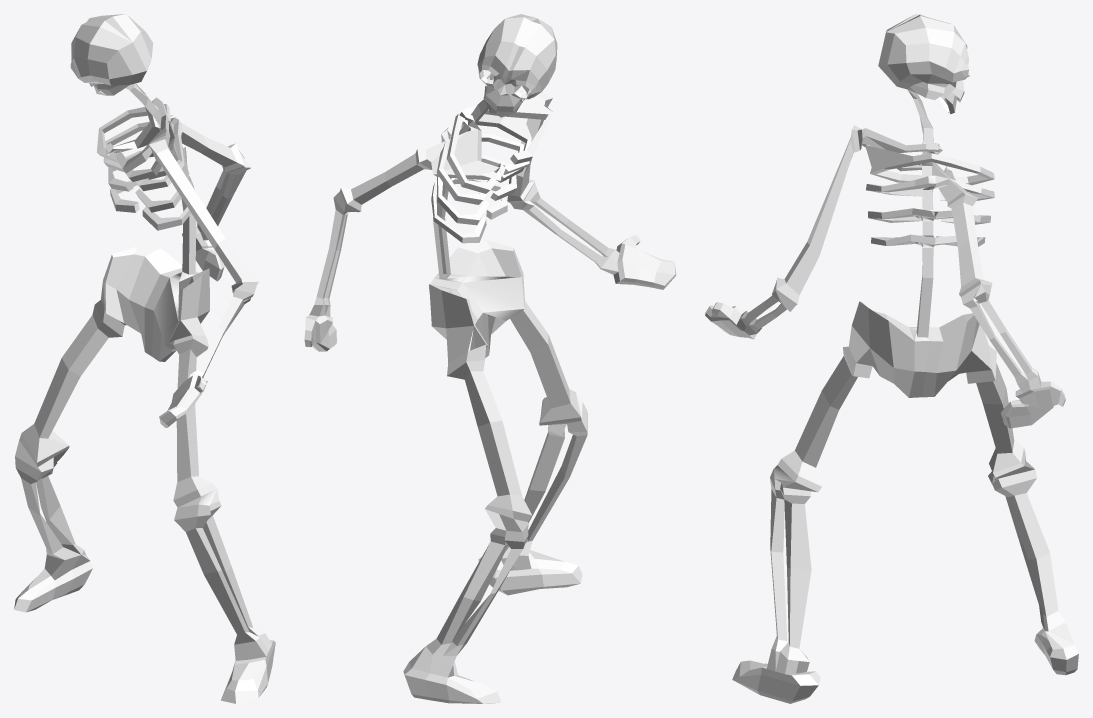
The model's file is SkeletonIdle(75).obj.
The picture shows the model from 3 angles, left to right: view 1: azimuth 30°, elevation 25°; view 2: azimuth 150°, elevation 25°; view 3: azimuth 270°, elevation 25°; orthographic projection.
Parts seen in each view (by area): view 1: Object002; view 2: Object002; view 3: Object002.
Part boxes in pixels (x1=…): Object002: x1=14, y1=14, x2=275, y2=703; Object002: x1=304, y1=14, x2=676, y2=703; Object002: x1=705, y1=14, x2=1078, y2=703.
Bounding box in the file's own units: 398 × 1133 × 597.
